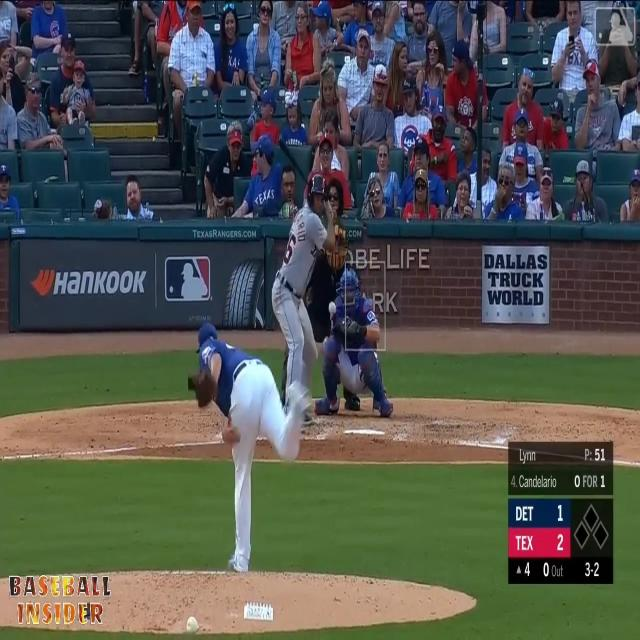baseball: (328, 301, 336, 315)
